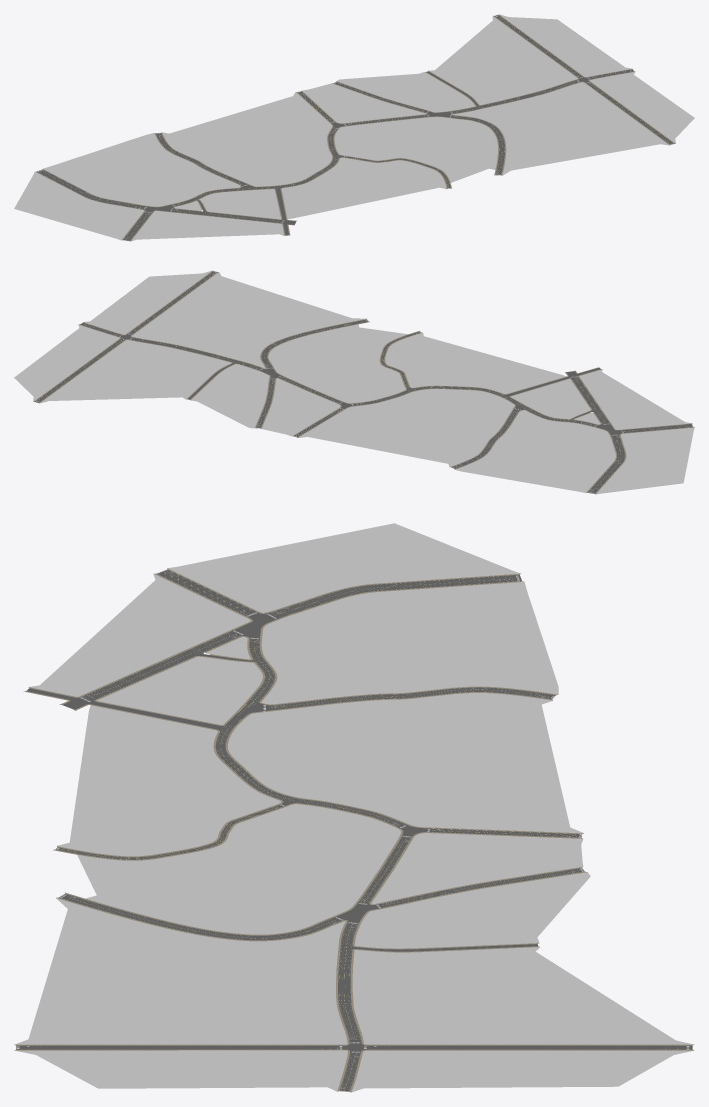
The model's file is road.FBX.
3 views of the same model, one above another, from view 1: azimuth 30°, elevation 25°; view 2: azimuth 150°, elevation 25°; view 3: azimuth 270°, elevation 25° (orthographic). The views are drawn at different scales.
Parts seen in each view (by area): view 1: Road_002, road, Road_003; view 2: Road_002, road, Road_003; view 3: Road_002, road, Road_003, Road_004.
Part boxes in pixels (bbox=[...]): Road_002: bbox=[14, 14, 694, 241]; road: bbox=[35, 15, 673, 241]; Road_003: bbox=[161, 14, 675, 235]; Road_002: bbox=[14, 270, 694, 494]; road: bbox=[35, 271, 694, 494]; Road_003: bbox=[33, 270, 599, 467]; Road_002: bbox=[15, 523, 693, 1092]; road: bbox=[16, 568, 692, 1091]; Road_003: bbox=[14, 656, 694, 1092]; Road_004: bbox=[30, 574, 581, 1088].
Bounding box in the file's own units: 315450 × 20 × 159423.
